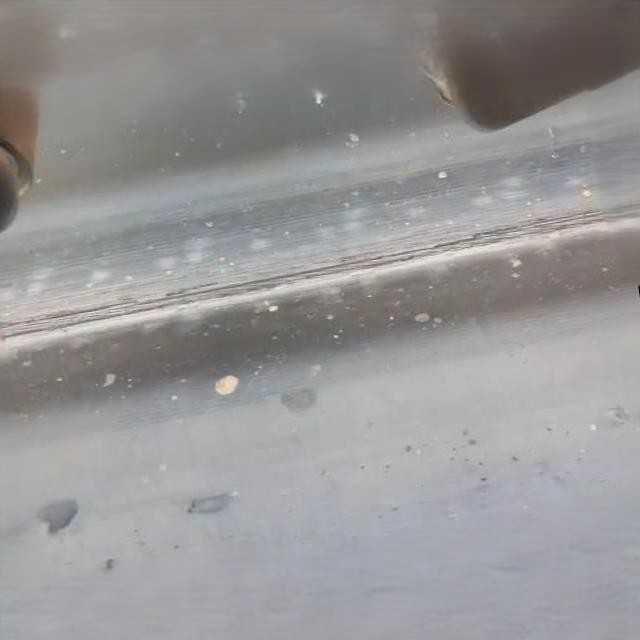Wear: (0, 202, 640, 344)
